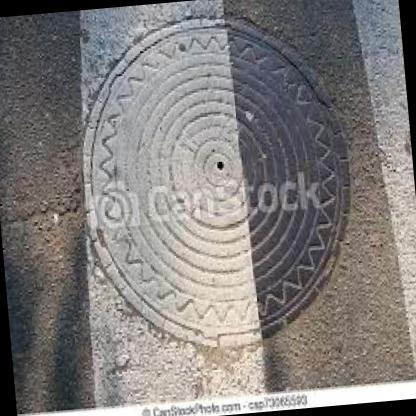manholes: (54, 0, 405, 387)
